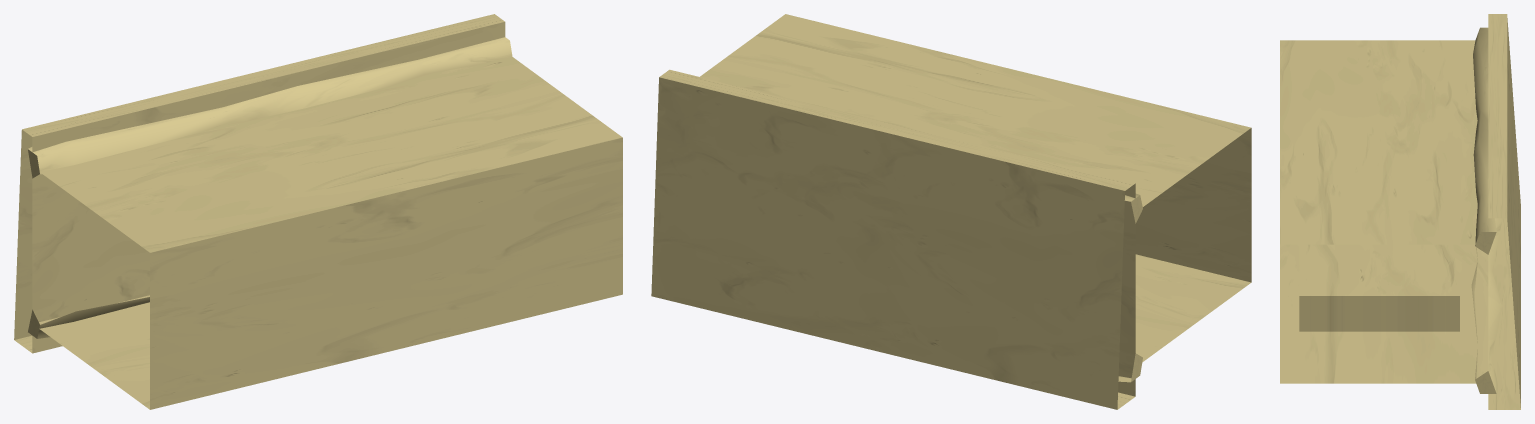
File: V_F_BuildingArch1.fbx
3 views of the same model, side by side, from view 1: azimuth 30°, elevation 25°; view 2: azimuth 150°, elevation 25°; view 3: azimuth 270°, elevation 25° (orthographic). The views are drawn at different scales.
Parts seen in each view (by area): view 1: V_F_BuildingArch1; view 2: V_F_BuildingArch1; view 3: V_F_BuildingArch1.
Boxes of the visible parts, x1=… form: V_F_BuildingArch1: x1=14, y1=14, x2=622, y2=409; V_F_BuildingArch1: x1=651, y1=14, x2=1251, y2=409; V_F_BuildingArch1: x1=1280, y1=14, x2=1520, y2=409.
Size of the model in its own units: 770 by 337 by 384.
